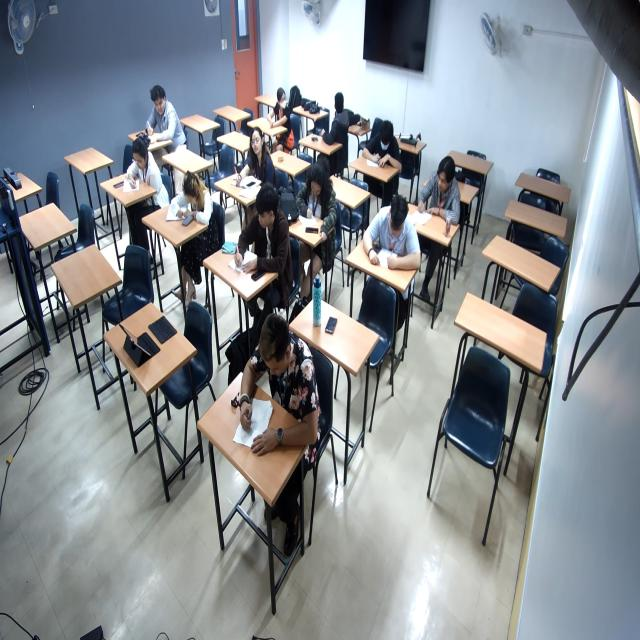read: (231, 326, 324, 470), (229, 191, 296, 285), (360, 196, 425, 281), (419, 156, 475, 230), (224, 129, 278, 202), (296, 164, 341, 251), (165, 174, 216, 238), (115, 138, 164, 200), (361, 120, 403, 181), (144, 89, 181, 151)
